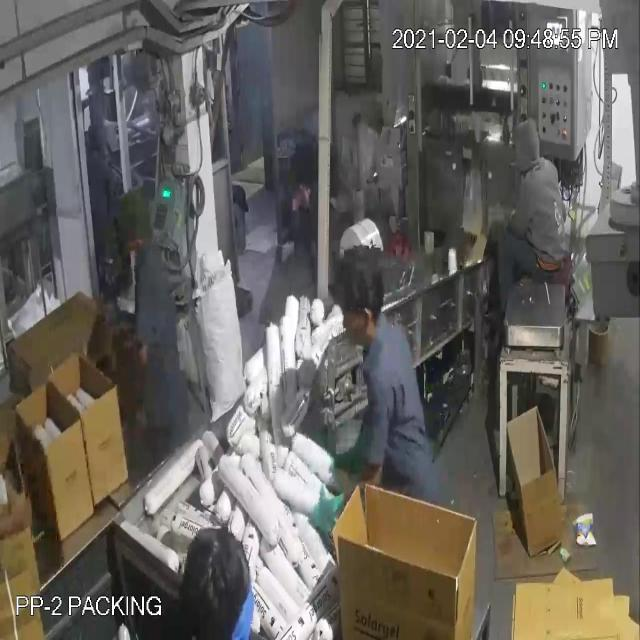gloves: (298, 471, 356, 550)
